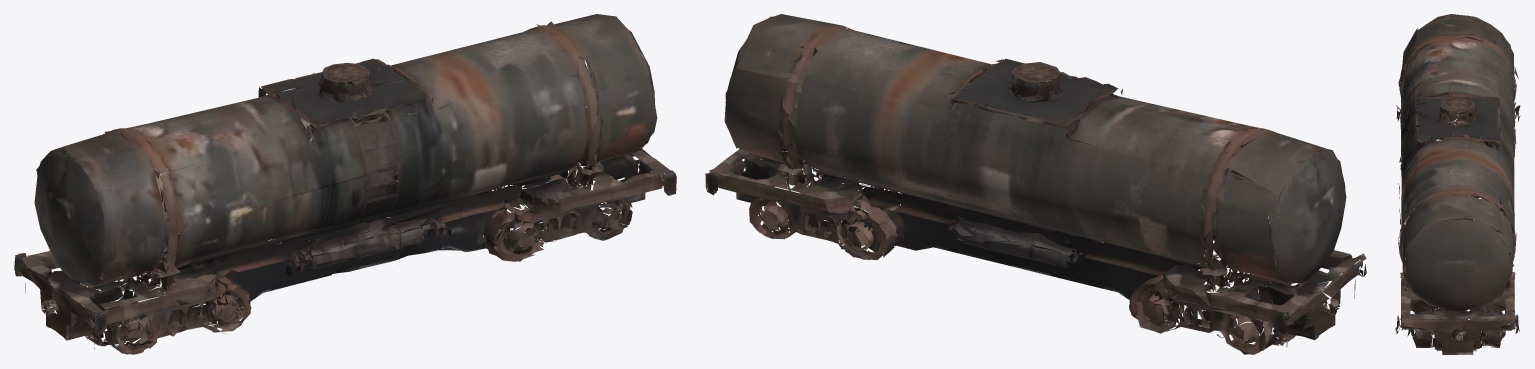
The model's file is container_tankcar.glb.
The picture shows the model from 3 angles, left to right: view 1: azimuth 30°, elevation 25°; view 2: azimuth 150°, elevation 25°; view 3: azimuth 270°, elevation 25°; orthographic projection. The views are drawn at different scales.
Visible parts, largest first — view 1: container_tankcar; view 2: container_tankcar; view 3: container_tankcar.
Boxes of the visible parts, box(x1,y1,x2,y2) form: container_tankcar: box(14, 14, 676, 354); container_tankcar: box(705, 14, 1366, 354); container_tankcar: box(1395, 14, 1520, 354).
Bounding box in the file's own units: 12 × 3.97 × 2.85.
1 material, 1 textured.
